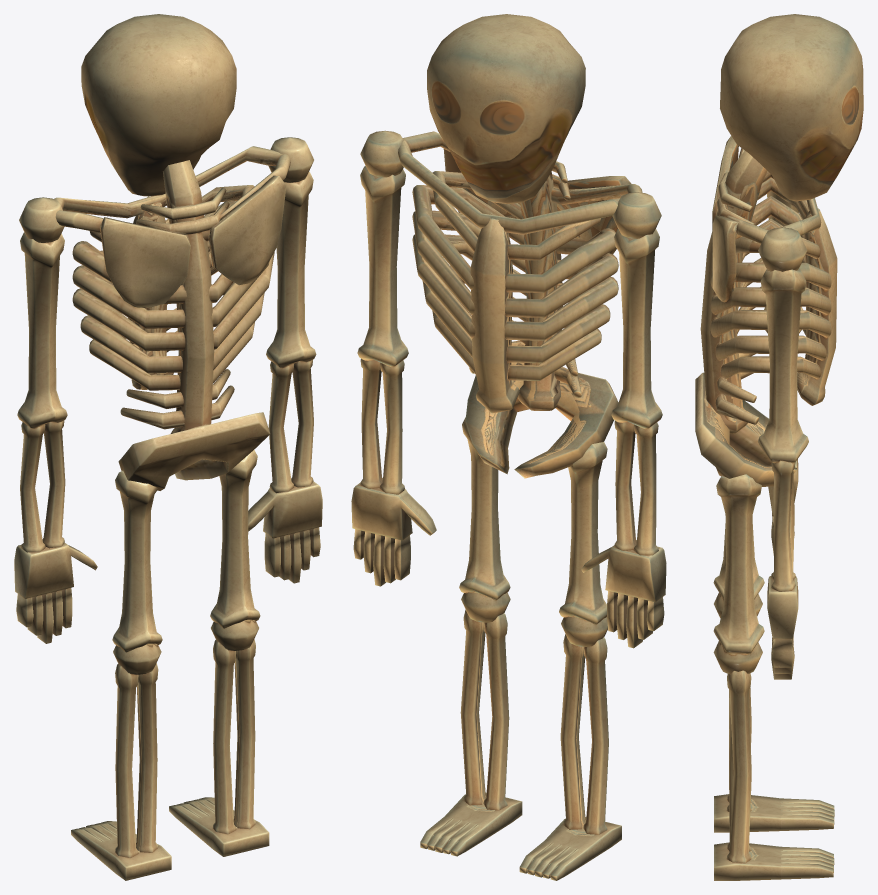
3 renders of one model, left to right at view 1: azimuth 30°, elevation 25°; view 2: azimuth 150°, elevation 25°; view 3: azimuth 270°, elevation 25°, orthographic. The views are drawn at different scales.
Visible parts, largest first — view 1: SM_Skeleton_Lord_Torso, SM_Skeleton_Lord_Head, SM_Skeleton_Lord_Arm_L, SM_Skeleton_Lord_Arm_R, SM_Skeleton_Lord_Leg_L, SM_Skeleton_Lord_Leg_R; view 2: SM_Skeleton_Lord_Torso, SM_Skeleton_Lord_Head, SM_Skeleton_Lord_Arm_R, SM_Skeleton_Lord_Arm_L, SM_Skeleton_Lord_Leg_L, SM_Skeleton_Lord_Leg_R; view 3: SM_Skeleton_Lord_Torso, SM_Skeleton_Lord_Head, SM_Skeleton_Lord_Leg_R, SM_Skeleton_Lord_Arm_R, SM_Skeleton_Lord_Leg_L, SM_Skeleton_Lord_Arm_L.
Boxes of the visible parts, bbox=[...] form: SM_Skeleton_Lord_Torso: bbox=[54, 146, 290, 490]; SM_Skeleton_Lord_Head: bbox=[81, 14, 236, 196]; SM_Skeleton_Lord_Arm_L: bbox=[14, 197, 97, 643]; SM_Skeleton_Lord_Arm_R: bbox=[248, 137, 322, 583]; SM_Skeleton_Lord_Leg_L: bbox=[71, 470, 171, 880]; SM_Skeleton_Lord_Leg_R: bbox=[169, 450, 269, 856]; SM_Skeleton_Lord_Torso: bbox=[398, 131, 642, 478]; SM_Skeleton_Lord_Head: bbox=[427, 14, 585, 203]; SM_Skeleton_Lord_Arm_R: bbox=[351, 130, 436, 586]; SM_Skeleton_Lord_Arm_L: bbox=[581, 192, 666, 648]; SM_Skeleton_Lord_Leg_L: bbox=[519, 442, 621, 880]; SM_Skeleton_Lord_Leg_R: bbox=[420, 417, 522, 856]; SM_Skeleton_Lord_Torso: bbox=[695, 136, 837, 486]; SM_Skeleton_Lord_Head: bbox=[720, 14, 863, 201]; SM_Skeleton_Lord_Leg_R: bbox=[713, 474, 834, 880]; SM_Skeleton_Lord_Arm_R: bbox=[758, 227, 808, 679]; SM_Skeleton_Lord_Leg_L: bbox=[713, 523, 834, 832]; SM_Skeleton_Lord_Arm_L: bbox=[764, 191, 801, 555].
Size of the model in its own units: 1.06 by 2.74 by 0.5128.
6 materials, 6 textured.
